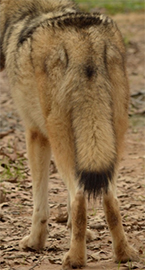wolf: (2, 1, 133, 266)
